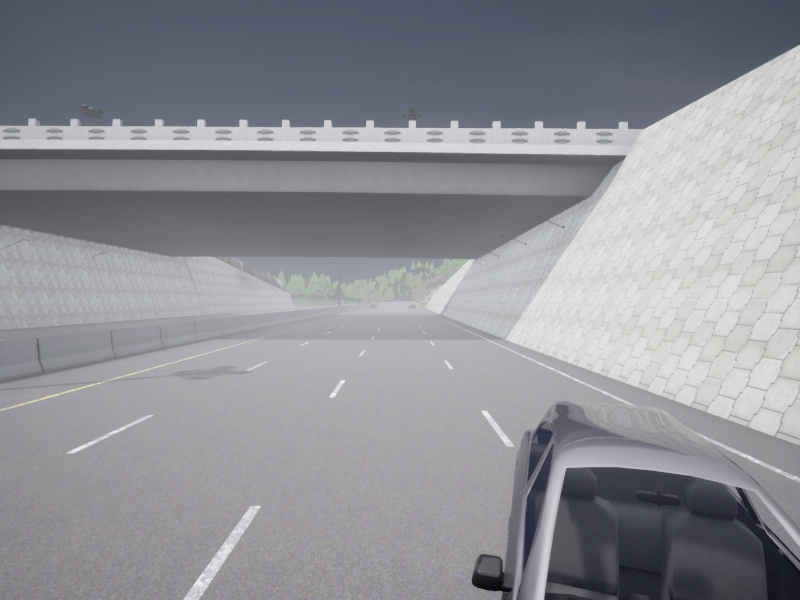vehicle: (471, 401, 799, 599), (370, 303, 377, 308), (408, 304, 415, 308)
